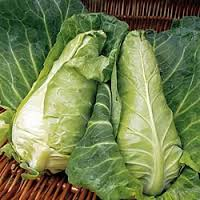cabbage: (11, 23, 107, 172), (118, 28, 183, 197)
